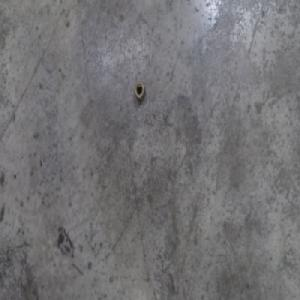Nut: (133, 80, 146, 103)
